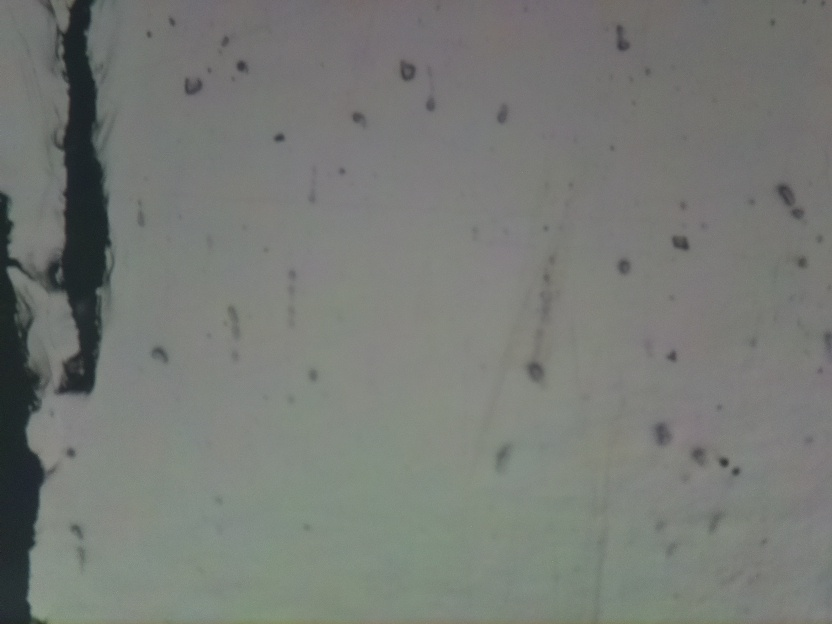crack: (0, 190, 51, 624), (56, 0, 110, 392)
